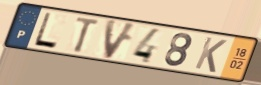4: (129, 26, 163, 66)
8: (164, 32, 194, 68)
K: (192, 35, 229, 75)
L: (31, 11, 59, 51)
T: (73, 15, 102, 54)
V: (101, 17, 140, 62)
